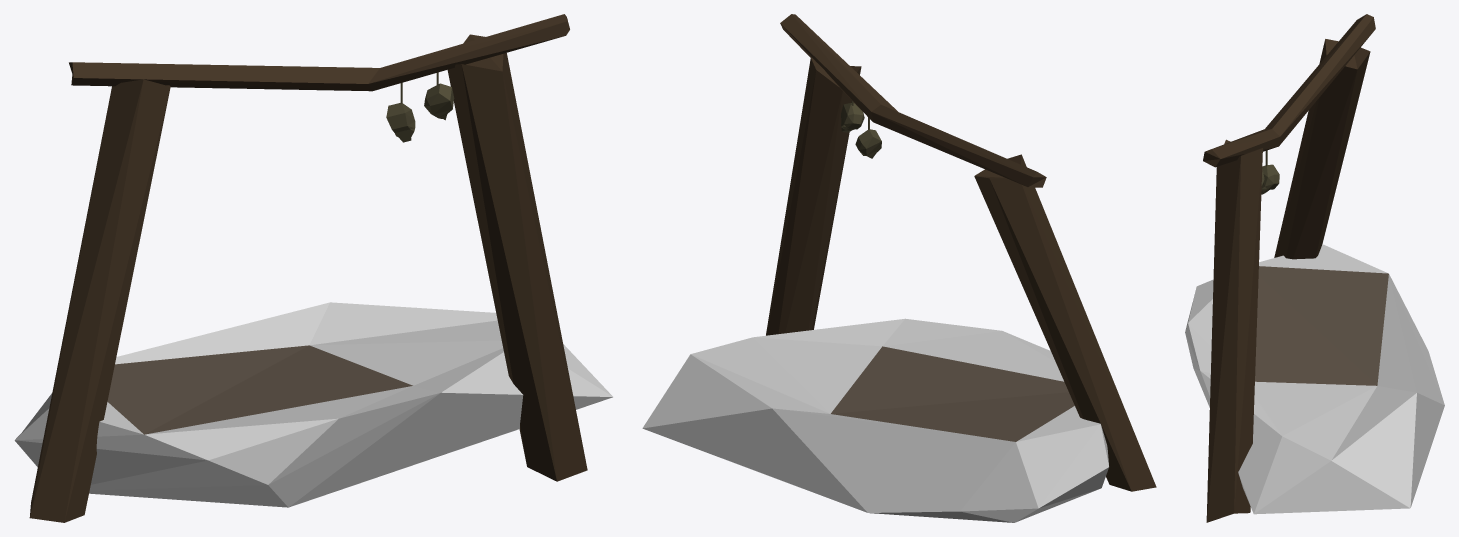
The model's file is ORC_BED_01.OBJ.
3 views of the same model, side by side, from view 1: azimuth 30°, elevation 25°; view 2: azimuth 150°, elevation 25°; view 3: azimuth 270°, elevation 25° (orthographic). The views are drawn at different scales.
Parts seen in each view (by area): view 1: ORC_BED_01; view 2: ORC_BED_01; view 3: ORC_BED_01.
Part boxes in pixels (x1,y1,x2,y2): ORC_BED_01: (14, 14, 613, 522); ORC_BED_01: (642, 14, 1156, 522); ORC_BED_01: (1185, 14, 1444, 522).
Size of the model in its own units: 4 by 3.15 by 2.
